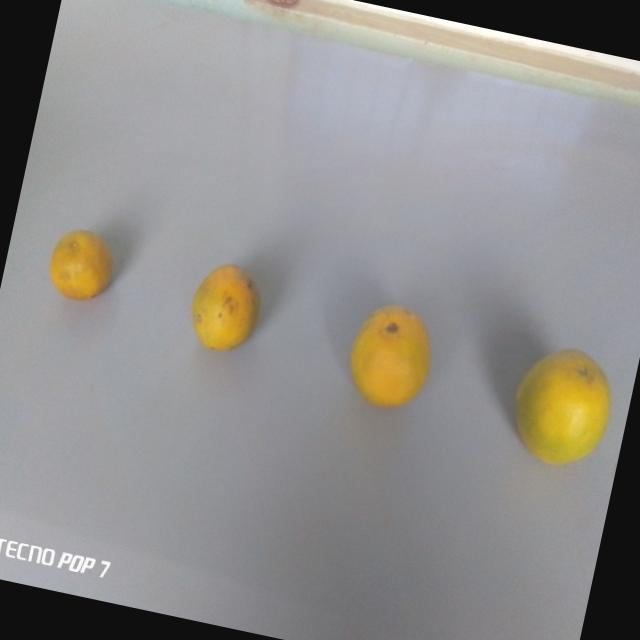Ripe orange: (502, 335, 623, 482), (326, 291, 444, 422), (182, 245, 276, 368), (39, 214, 128, 316)
